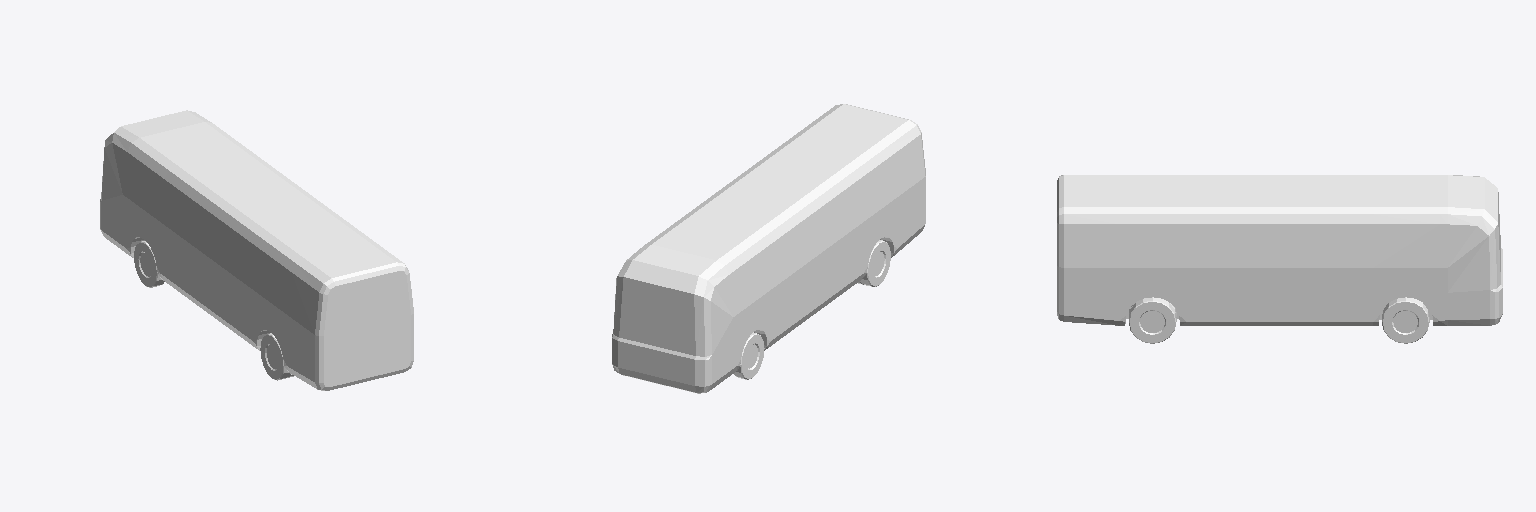
The model's file is Bus.obj.
The picture shows the model from 3 angles: view 1: azimuth 30°, elevation 25°; view 2: azimuth 150°, elevation 25°; view 3: azimuth 270°, elevation 25°; orthographic projection.
Visible parts, largest first — view 1: Bus; view 2: Bus; view 3: Bus.
Boxes of the visible parts, x1,y1,x2,y2 form: Bus: [100, 110, 413, 390]; Bus: [612, 104, 925, 393]; Bus: [1057, 175, 1502, 343].
Bounding box in the file's own units: 176 × 221 × 687.